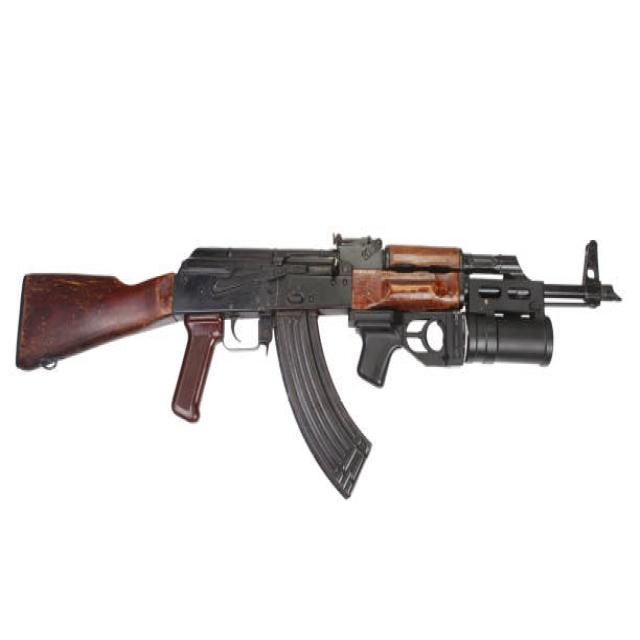rifle: (15, 209, 626, 530)
